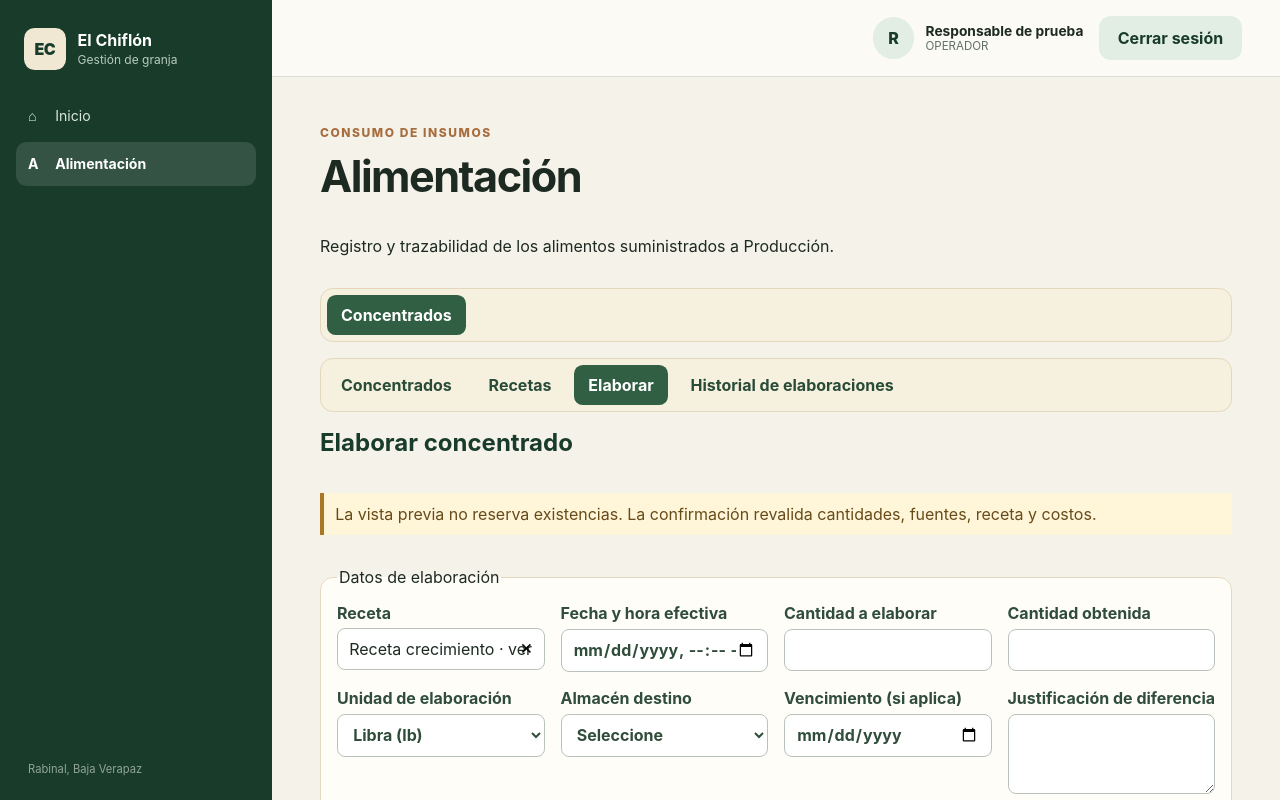
Test: presenta cantidades, reparto y costos exactos recibidos y no confirma al previsualizar
The width and height of the screenshot is (1280, 800).
Expected: the dropdown showing "Receta crecimiento · versión 2" is shown, [337,628,544,670]
Type "2026-09-22T09:30" into the field labelled "Fecha y hora efectiva". click: (664, 650)
box: [560,629,768,672]
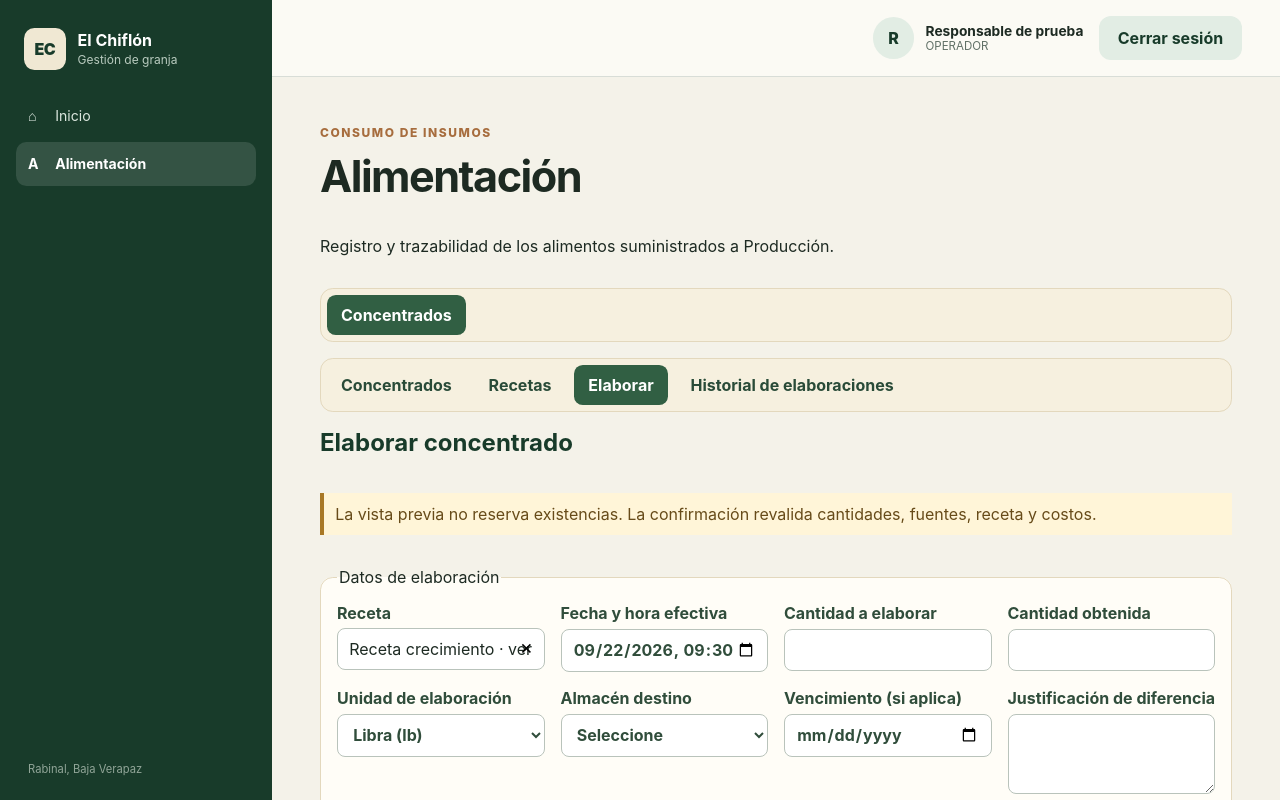
Type "500" into the field labelled "Cantidad a elaborar". click: (888, 650)
box: [784,629,992,671]
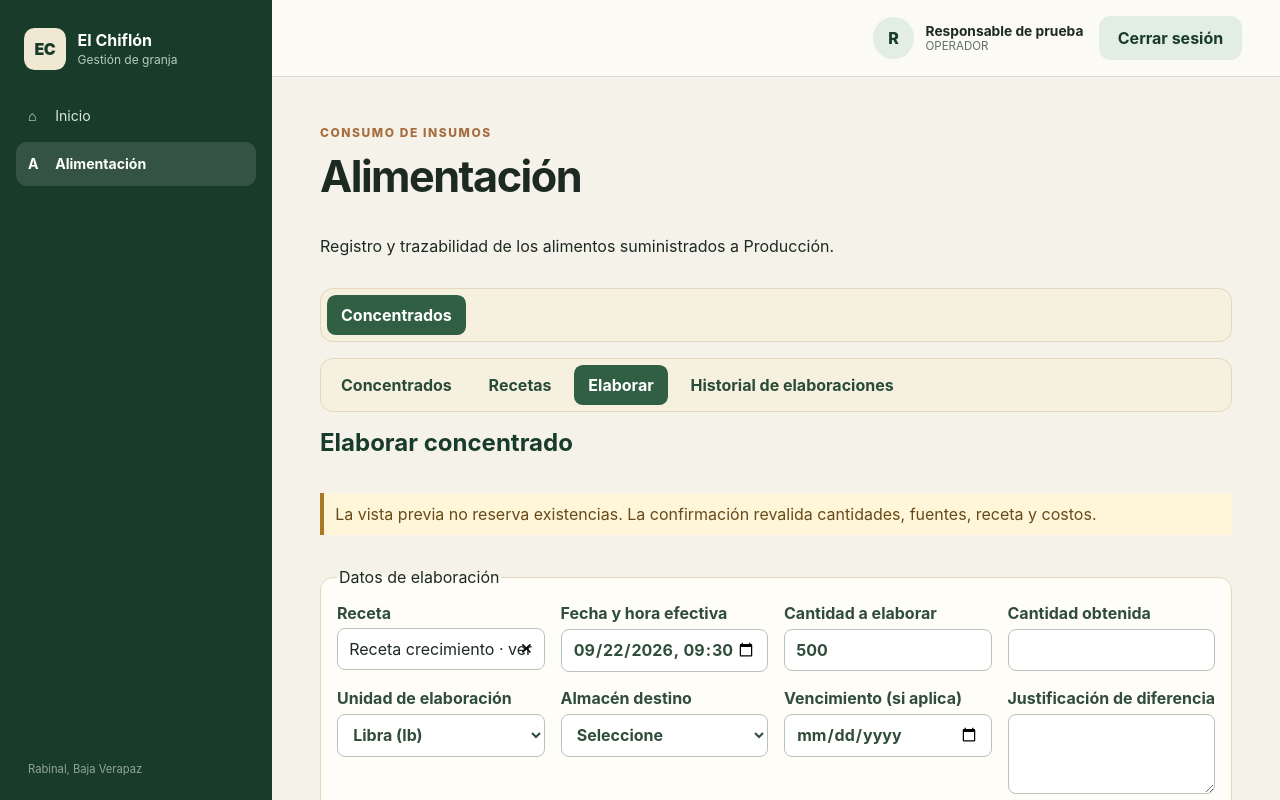
Type "490" into the field labelled "Cantidad obtenida". click: (1111, 650)
box: [1008,629,1215,671]
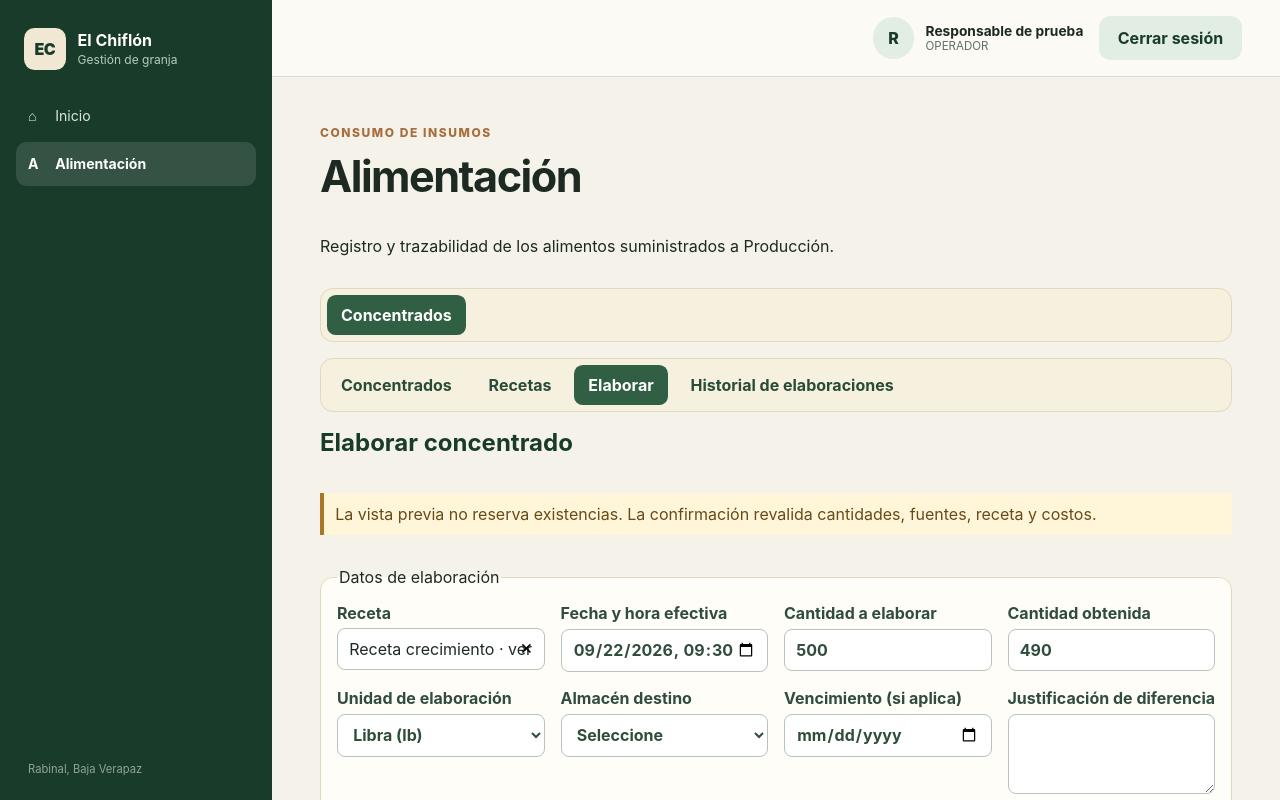
Select "A-7 · Central" in the dropdown labelled "Almacén destino". click: (664, 735)
box: [560,714,768,757]
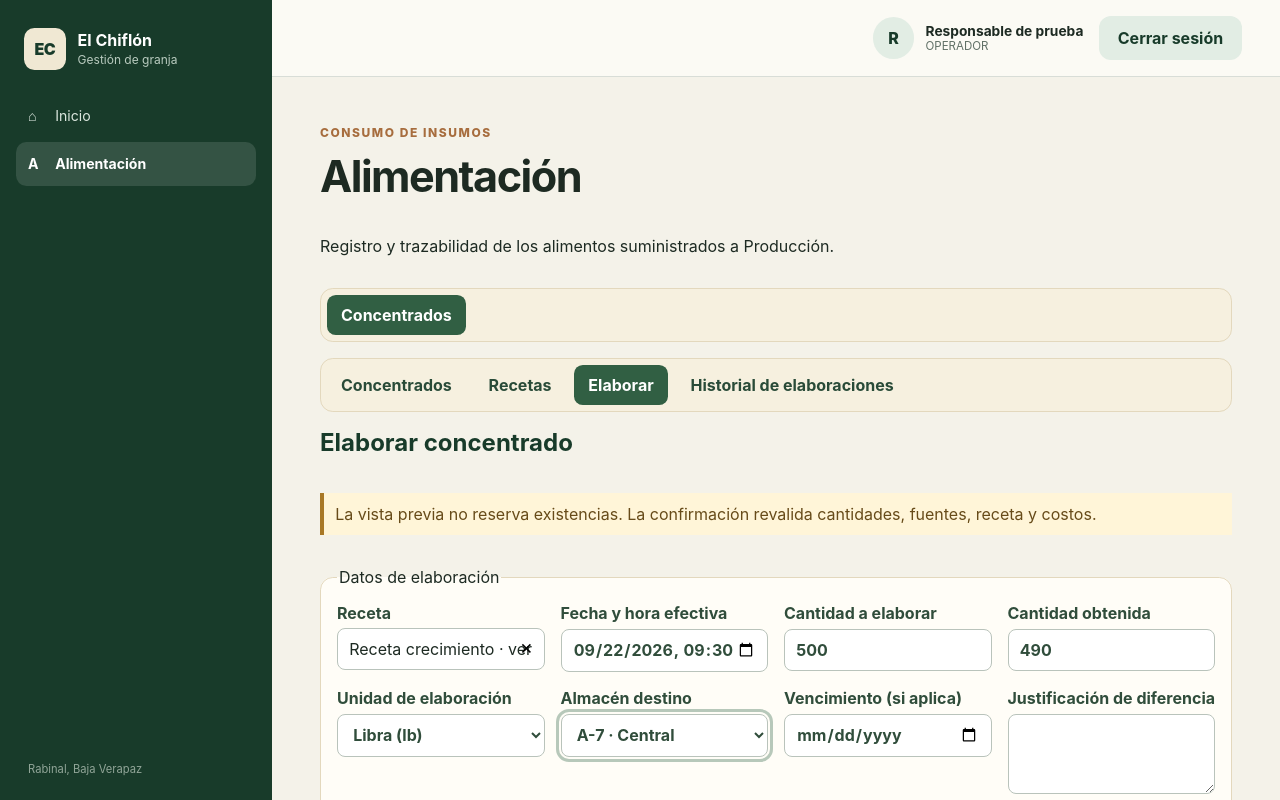
Type "Merma documentada" into the text box labelled "Justificación de diferencia". click: (1111, 754)
box: [1008,714,1215,794]
(page scrolled)
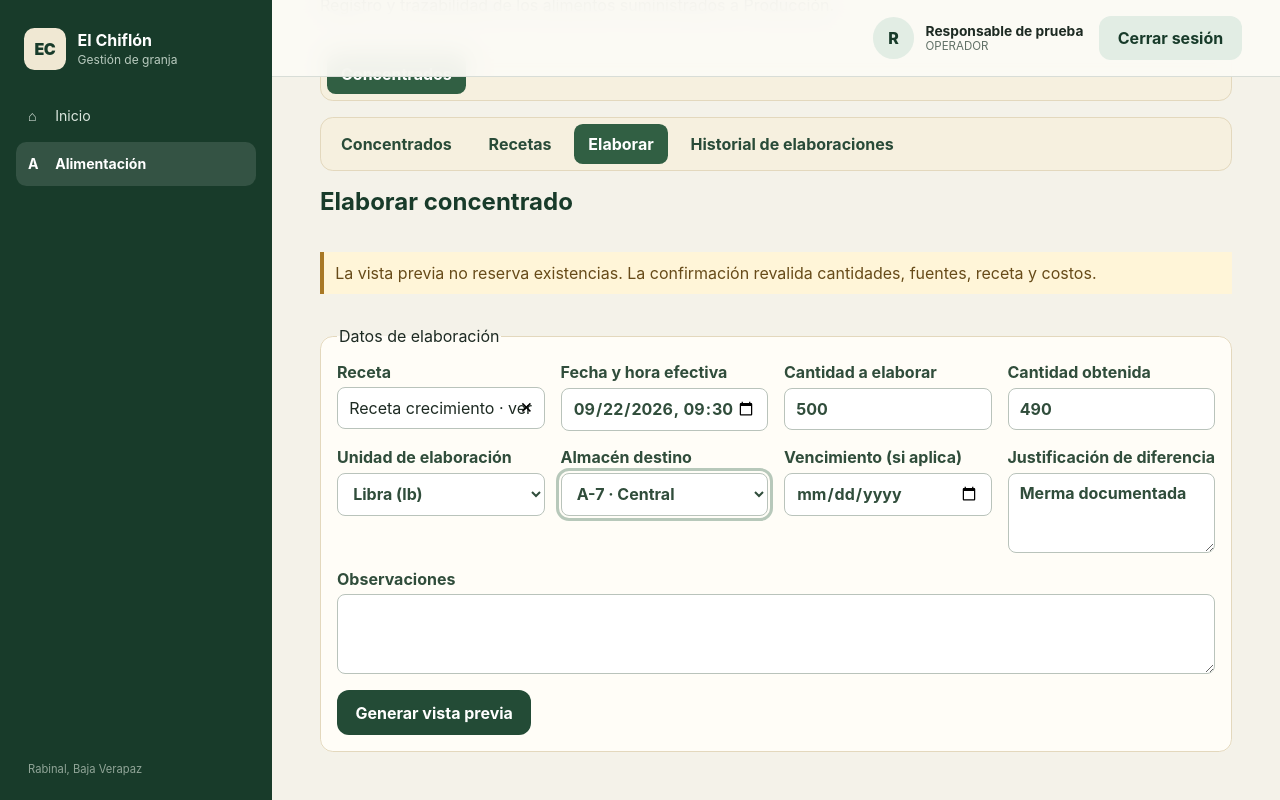
Click the button "Generar vista previa". click: (434, 713)
box: [337,690,531,735]
(page scrolled)
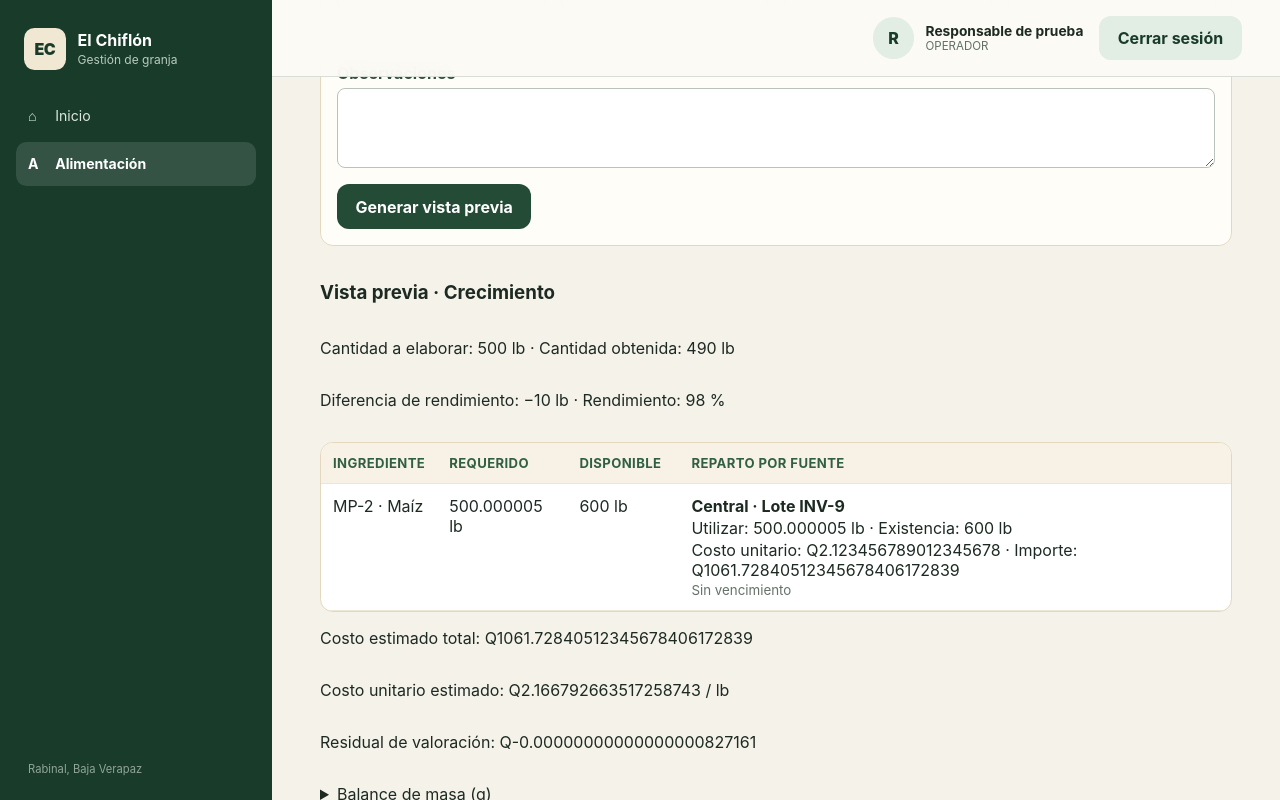
Result: the text "Costo estimado total: Q1061.72840512345678406172839" is shown at [320,628,753,648]
Result: the text "Central · Lote INV-9" is shown at [691,496,845,516]
Result: the text "Utilizar: 500.000005 lb · Existencia: 600 lb" is shown at [691,518,1012,538]
